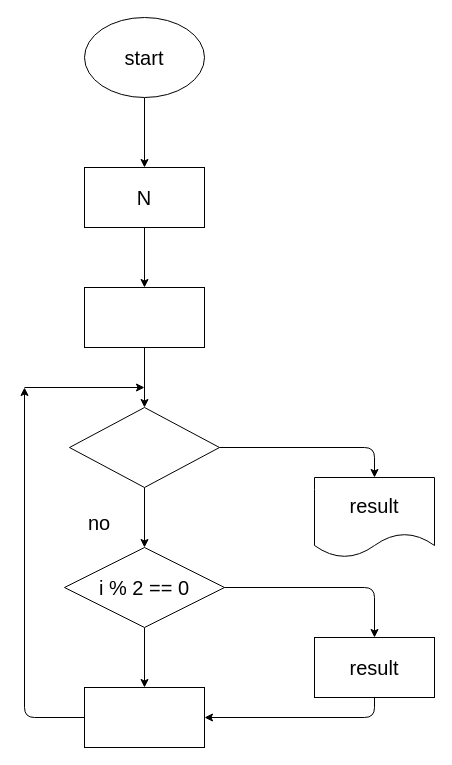
Some shapes in this 452 by 765 pixel diagram are drawn without their labels. The shapes that lost their labels are listed below. From the top down, each one's centre as x and y in pixels, then its label:
At (x=144, y=317): "i = 2".
At (x=144, y=447): "i => N".
At (x=144, y=717): "i = i + 1".
